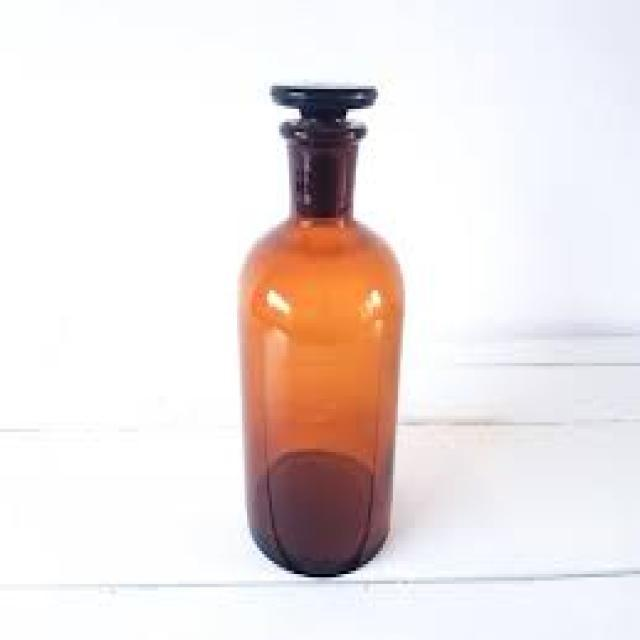Glass: (236, 136, 402, 580)
